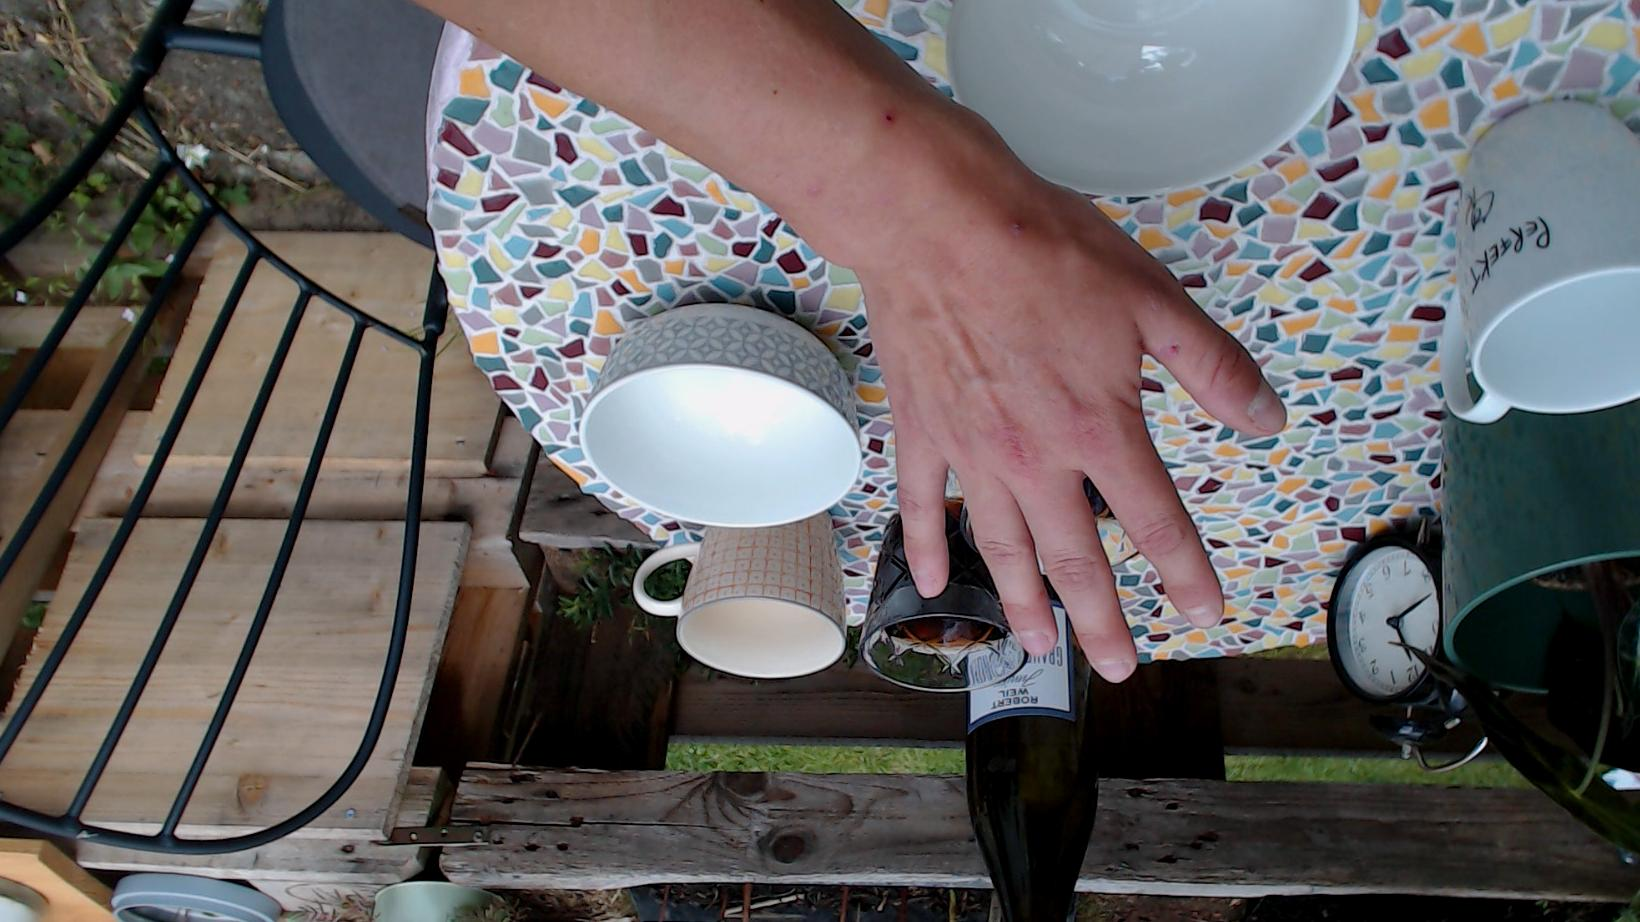bottle: (964, 607, 1098, 922)
bowl_close: (946, 0, 1360, 202)
bowl_far: (577, 303, 865, 529)
clock: (1329, 541, 1441, 702)
cup_close: (1440, 97, 1640, 426)
cup_far: (632, 511, 849, 680)
hand_medium: (854, 134, 1280, 679)
potted_plant: (1393, 385, 1640, 880)
wineglass_far: (856, 505, 1028, 691)
